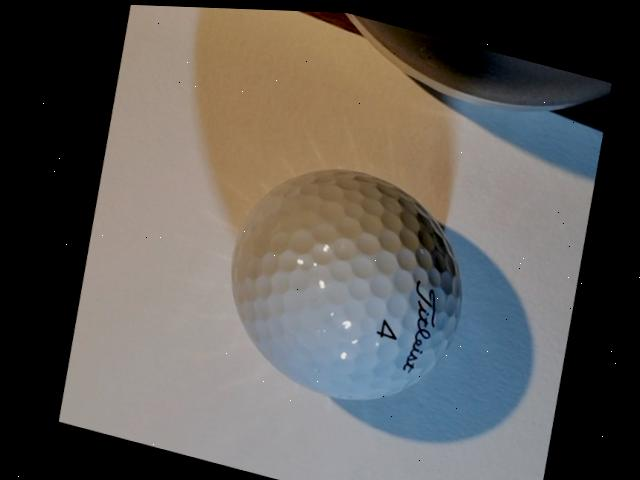Ball: (196, 140, 487, 426)
Titleist: (390, 276, 442, 377)
